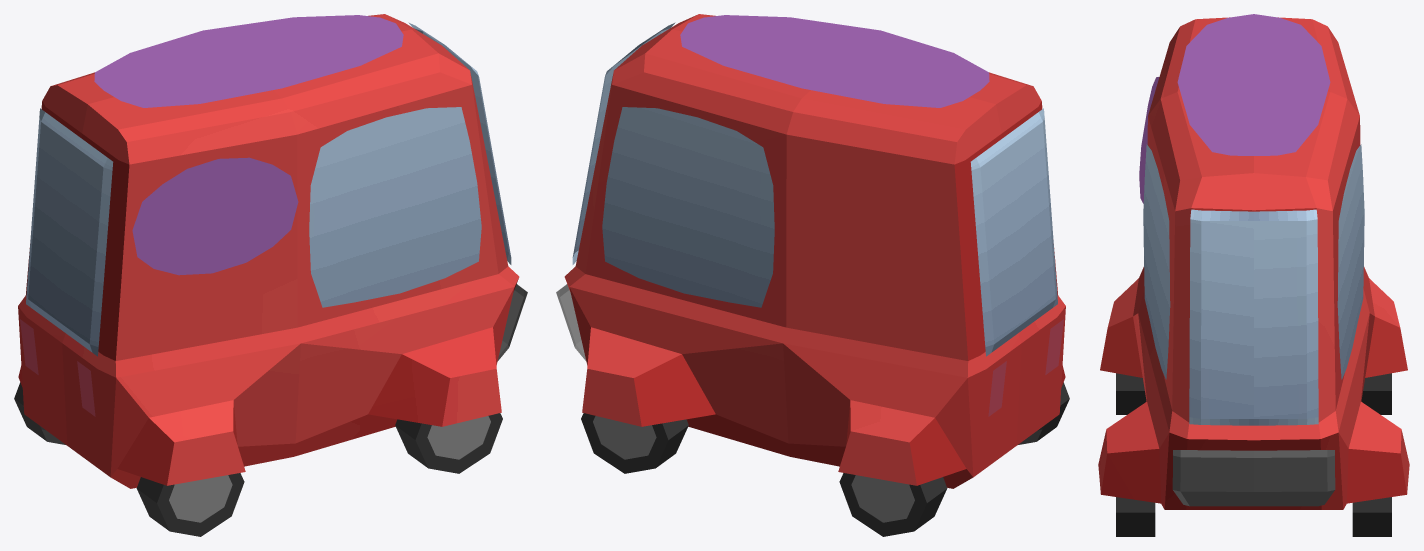
The model's file is camion.fbx.
3 views of the same model, side by side, from view 1: azimuth 30°, elevation 25°; view 2: azimuth 150°, elevation 25°; view 3: azimuth 270°, elevation 25° (orthographic). The views are drawn at different scales.
Visible parts, largest first — view 1: Cube; view 2: Cube; view 3: Cube.
Part boxes in pixels (<box>): Cube: <box>14,14,527,536</box>; Cube: <box>556,14,1069,536</box>; Cube: <box>1098,14,1409,536</box>.
Size of the model in its own units: 144 by 92.98 by 128.
